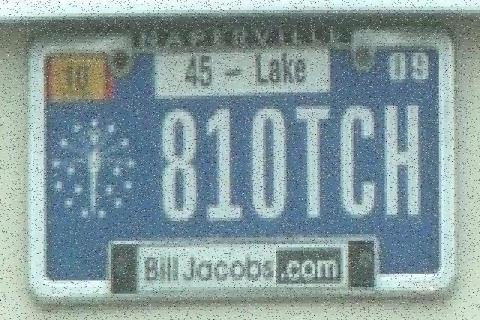LicensePlate: (24, 24, 458, 304)
